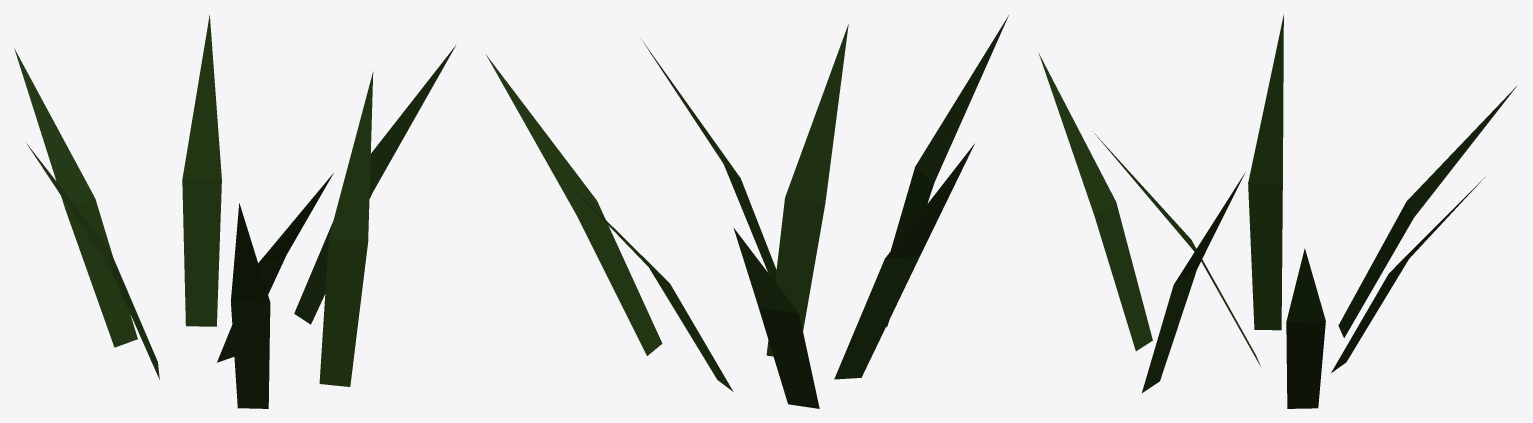
File: Grass_from_store.FBX
3 renders of one model, left to right at view 1: azimuth 30°, elevation 25°; view 2: azimuth 150°, elevation 25°; view 3: azimuth 270°, elevation 25°, orthographic. The views are drawn at different scales.
Visible parts, largest first — view 1: Grass_Small_from_store; view 2: Grass_Small_from_store; view 3: Grass_Small_from_store.
Boxes of the visible parts, x1,y1,x2,y2 form: Grass_Small_from_store: (14,15,455,408); Grass_Small_from_store: (486,15,1008,408); Grass_Small_from_store: (1038,14,1517,408).
Bounding box in the file's own units: 10 × 5.71 × 9.41.
